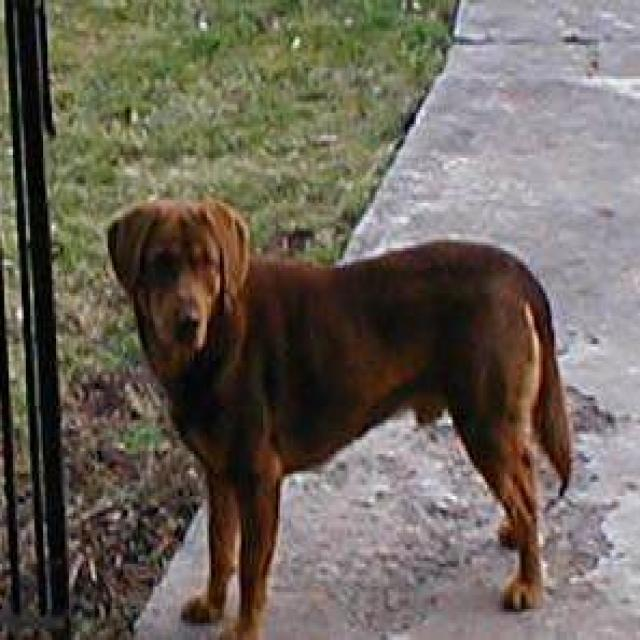dog: (106, 195, 573, 637)
